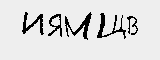В: (127, 16, 139, 36)
И: (22, 10, 44, 36)
М: (64, 11, 92, 40)
Щ: (95, 13, 127, 39)
Я: (46, 12, 64, 39)
